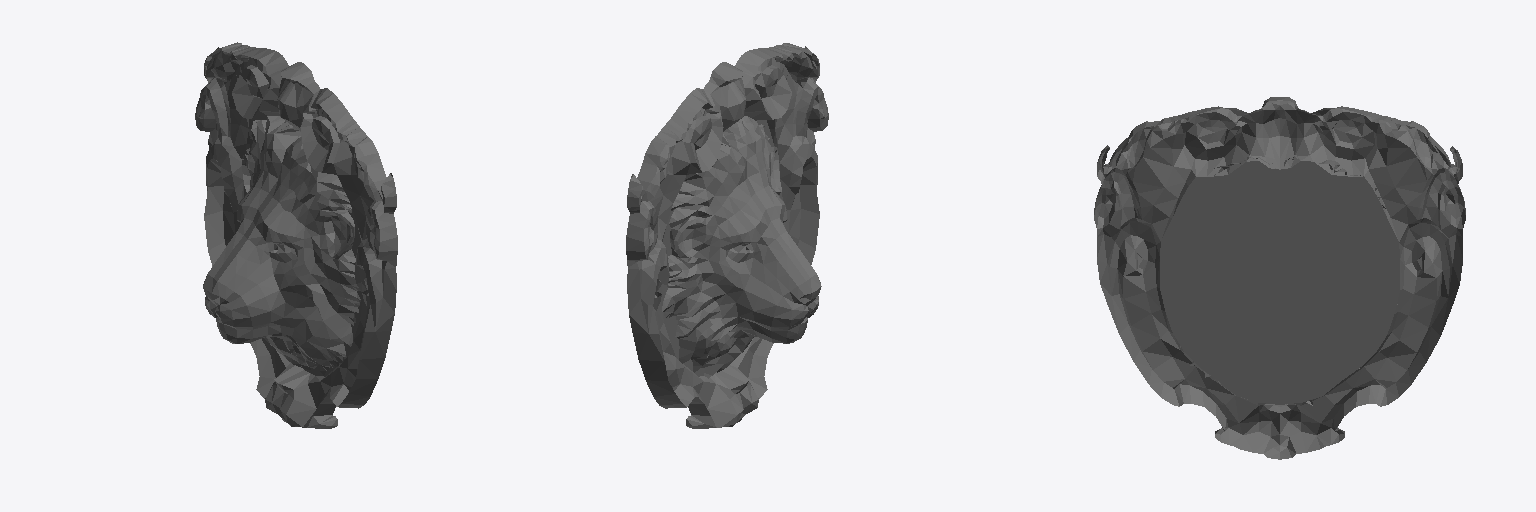
File: lion.obj
The picture shows the model from 3 angles: view 1: azimuth 30°, elevation 25°; view 2: azimuth 150°, elevation 25°; view 3: azimuth 270°, elevation 25°; orthographic projection.
Parts seen in each view (by area): view 1: sponza_377; view 2: sponza_377; view 3: sponza_377.
Part boxes in pixels (x1,y1,x2,y2): sponza_377: (195, 42, 397, 428); sponza_377: (626, 43, 828, 428); sponza_377: (1094, 97, 1465, 459).
Size of the model in its own units: 75.82 by 266 by 249.